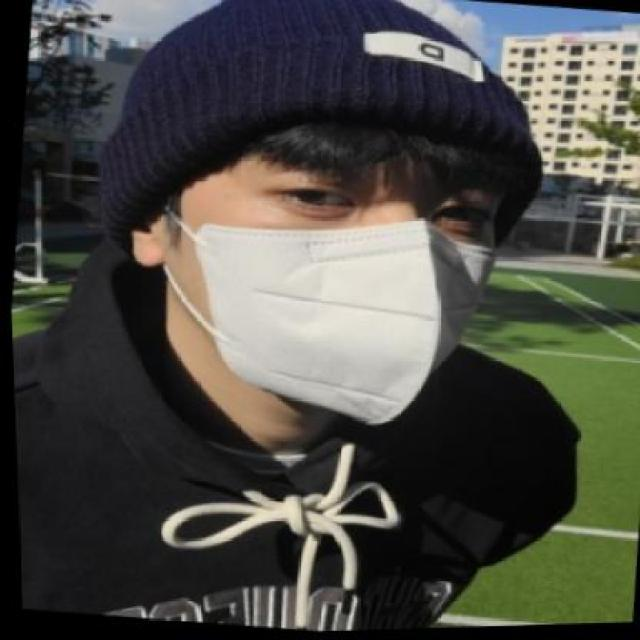hat: (94, 0, 540, 255)
